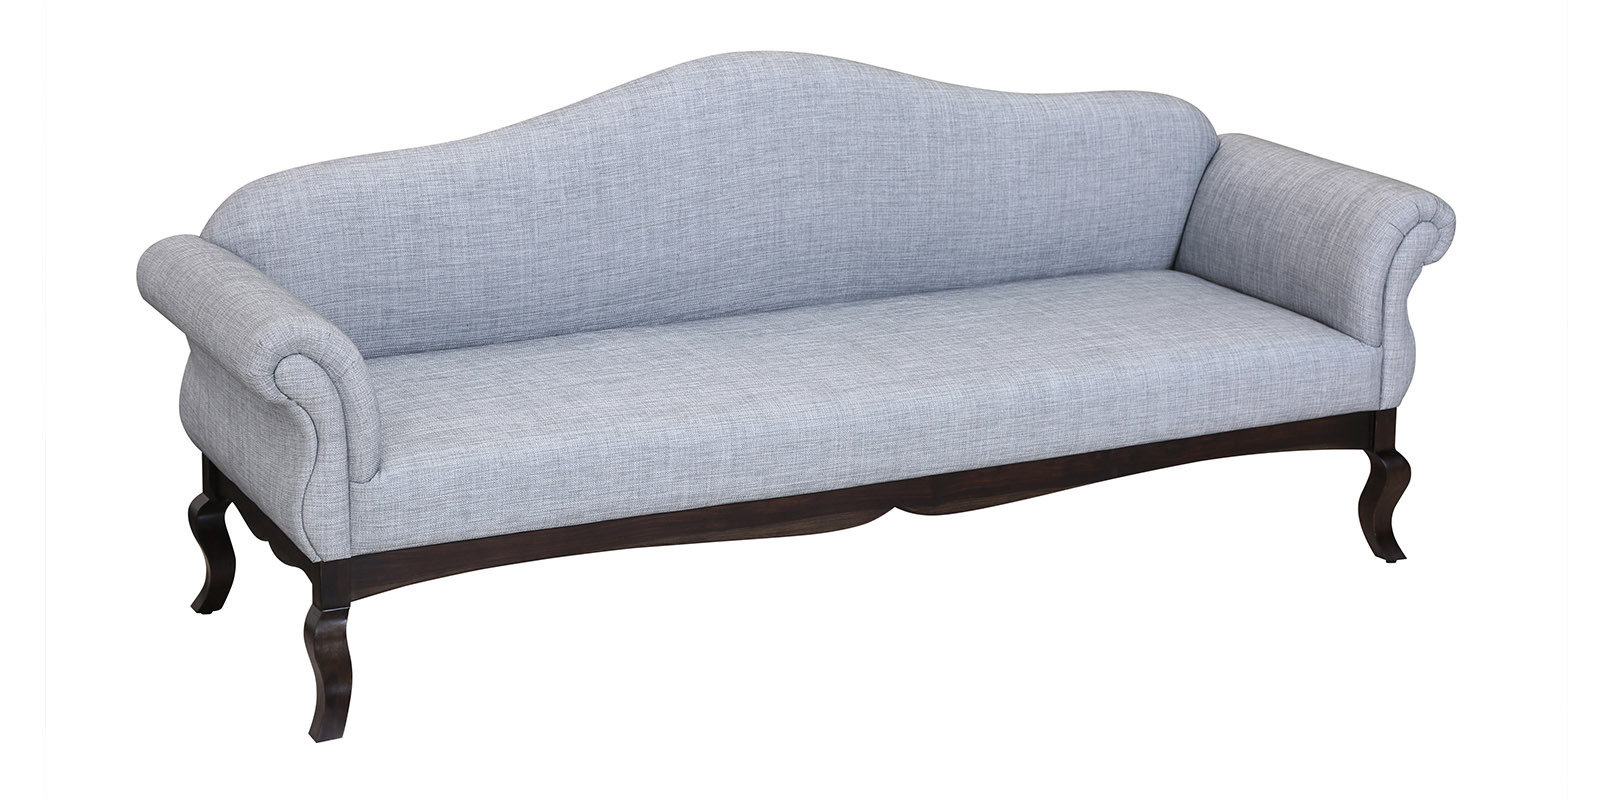Anne Three Seater Sofa in Warm Chestnut Finish by Amberville: (126, 45, 1464, 712)
